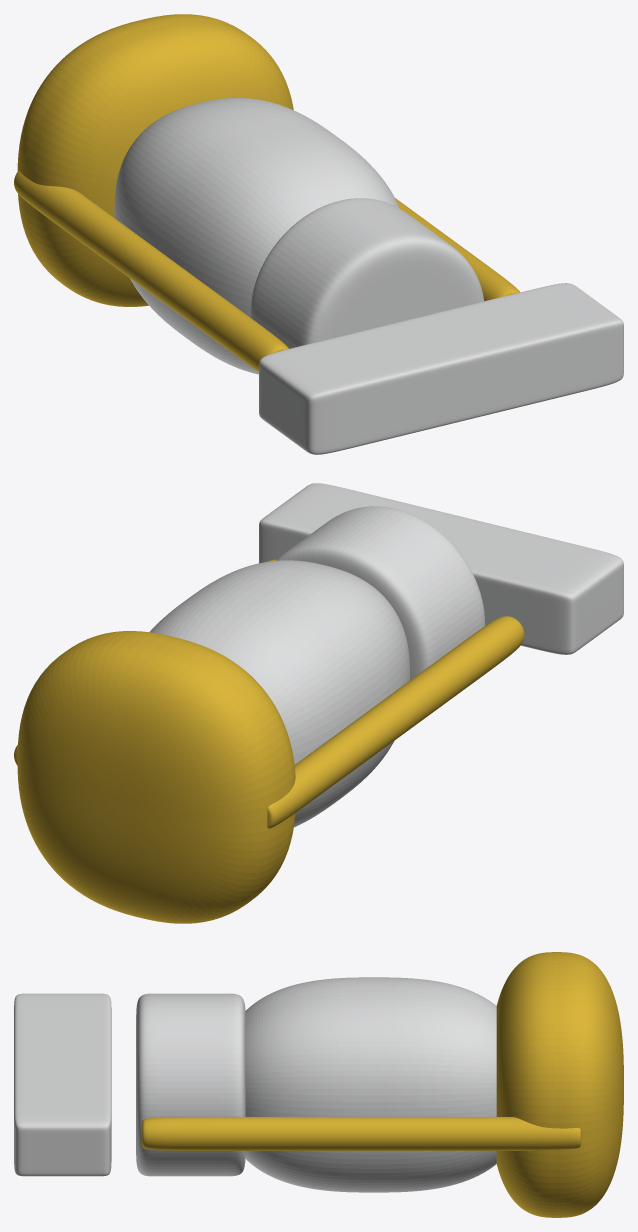
Rendered from lantern_wrong_handle_sq.glb.
3 renders of one model, top to bottom at view 1: azimuth 30°, elevation 25°; view 2: azimuth 150°, elevation 25°; view 3: azimuth 270°, elevation 25°, orthographic. The views are drawn at different scales.
Visible parts, largest first — view 1: superquadric_5, superquadric_1, superquadric_0, superquadric_2, superquadric_3, superquadric_4; view 2: superquadric_0, superquadric_1, superquadric_5, superquadric_2, superquadric_3; view 3: superquadric_1, superquadric_0, superquadric_5, superquadric_2, superquadric_4.
Part boxes in pixels (x1=…): superquadric_5: x1=259, y1=283, x2=623, y2=454; superquadric_1: x1=114, y1=98, x2=399, y2=374; superquadric_0: x1=17, y1=14, x2=293, y2=306; superquadric_2: x1=250, y1=198, x2=484, y2=348; superquadric_3: x1=14, y1=170, x2=288, y2=371; superquadric_4: x1=395, y1=198, x2=520, y2=300; superquadric_0: x1=17, y1=631, x2=295, y2=923; superquadric_1: x1=149, y1=560, x2=409, y2=827; superquadric_5: x1=259, y1=483, x2=623, y2=654; superquadric_2: x1=275, y1=506, x2=485, y2=680; superquadric_3: x1=267, y1=616, x2=524, y2=828; superquadric_1: x1=245, y1=977, x2=496, y2=1192; superquadric_0: x1=496, y1=952, x2=623, y2=1217; superquadric_5: x1=14, y1=993, x2=111, y2=1176; superquadric_2: x1=136, y1=993, x2=245, y2=1176; superquadric_4: x1=142, y1=1117, x2=581, y2=1150.
Size of the model in its own units: 0.52 by 0.4199 by 1.
